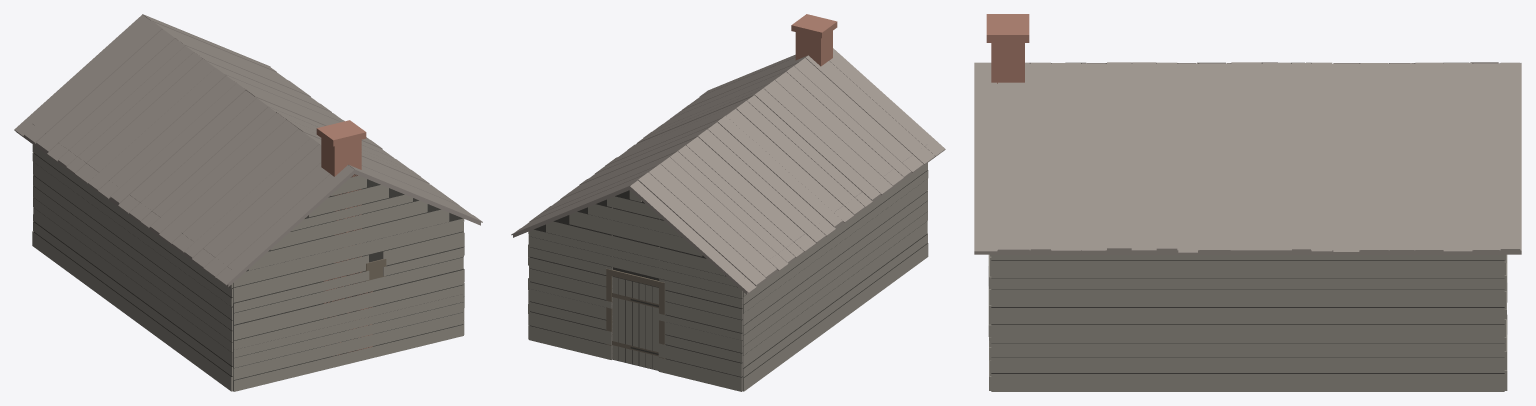
The model's file is mason_blacksmith_shop__documented_1835.glb.
3 views of the same model, side by side, from view 1: azimuth 30°, elevation 25°; view 2: azimuth 150°, elevation 25°; view 3: azimuth 270°, elevation 25° (orthographic). The views are drawn at different scales.
Visible parts, largest first — view 1: mason_blacksmith_shop__documented_1835; view 2: mason_blacksmith_shop__documented_1835; view 3: mason_blacksmith_shop__documented_1835.
Part boxes in pixels (x1,y1,x2,y2): mason_blacksmith_shop__documented_1835: [14, 14, 482, 391]; mason_blacksmith_shop__documented_1835: [511, 14, 945, 391]; mason_blacksmith_shop__documented_1835: [974, 14, 1521, 391].
Size of the model in its own units: 6.81 by 5.78 by 9.75.
